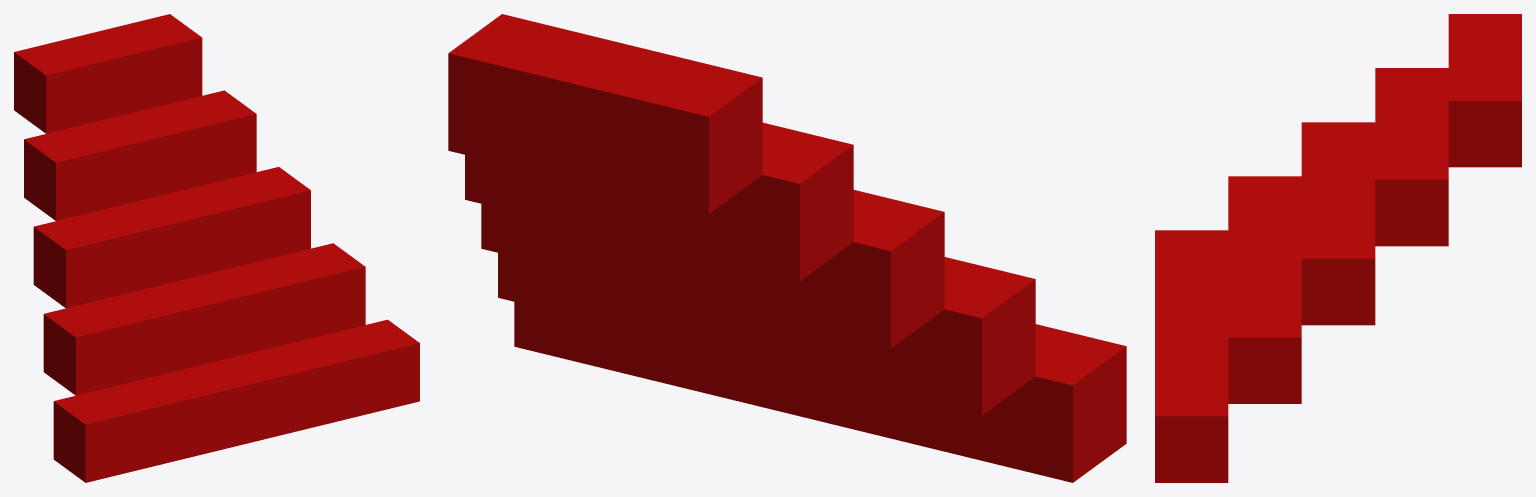
File: oefentrap.dae
3 views of the same model, side by side, from view 1: azimuth 30°, elevation 25°; view 2: azimuth 150°, elevation 25°; view 3: azimuth 270°, elevation 25° (orthographic). The views are drawn at different scales.
Parts seen in each view (by area): view 1: Box001; view 2: Box001; view 3: Box001.
Part boxes in pixels (x1,y1,x2,y2): Box001: (14,14,419,482); Box001: (448,14,1126,482); Box001: (1155,14,1521,482).
Size of the model in its own units: 30 by 25 by 25.
